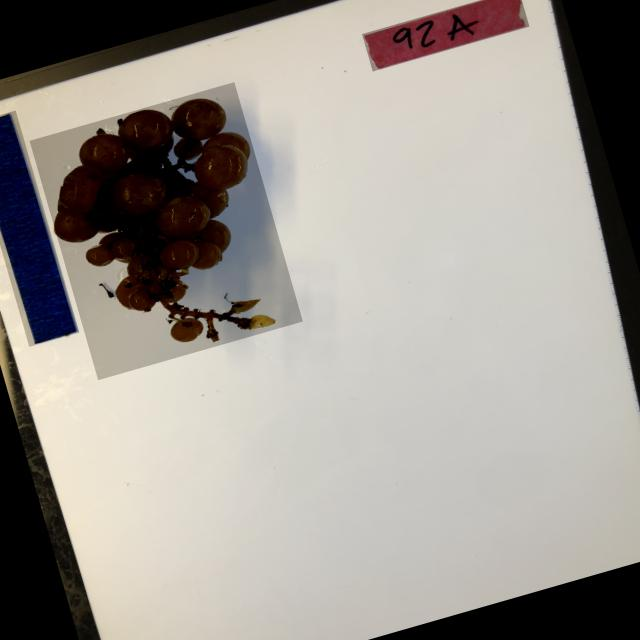grape_cluster: (30, 82, 302, 380)
index: (362, 0, 529, 70)
measure_label: (0, 110, 79, 346)
